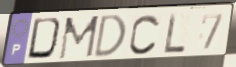7: (200, 13, 224, 51)
C: (127, 13, 162, 57)
D: (25, 16, 66, 62), (92, 13, 128, 60)
L: (163, 12, 187, 56)
M: (57, 14, 102, 61)
